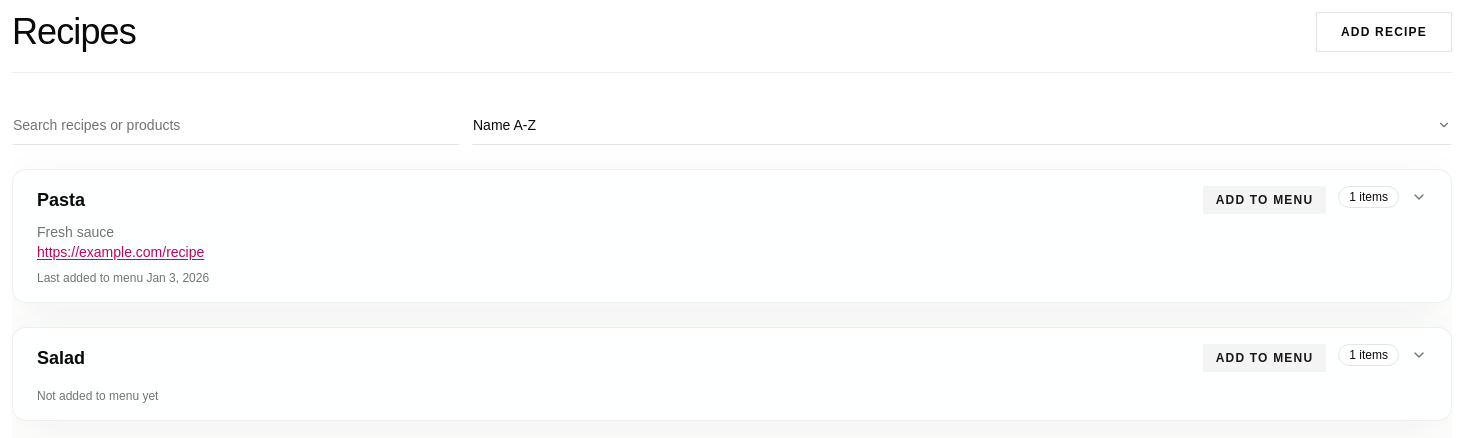
it: RecipesPage › filters recipes by product name
Expected: the text "Pasta" is shown, top-left (37, 190), bottom-right (85, 210)
Type "toma" into the field labelled "Search recipes" at (236, 125), box top-left (12, 105), bottom-right (460, 145)
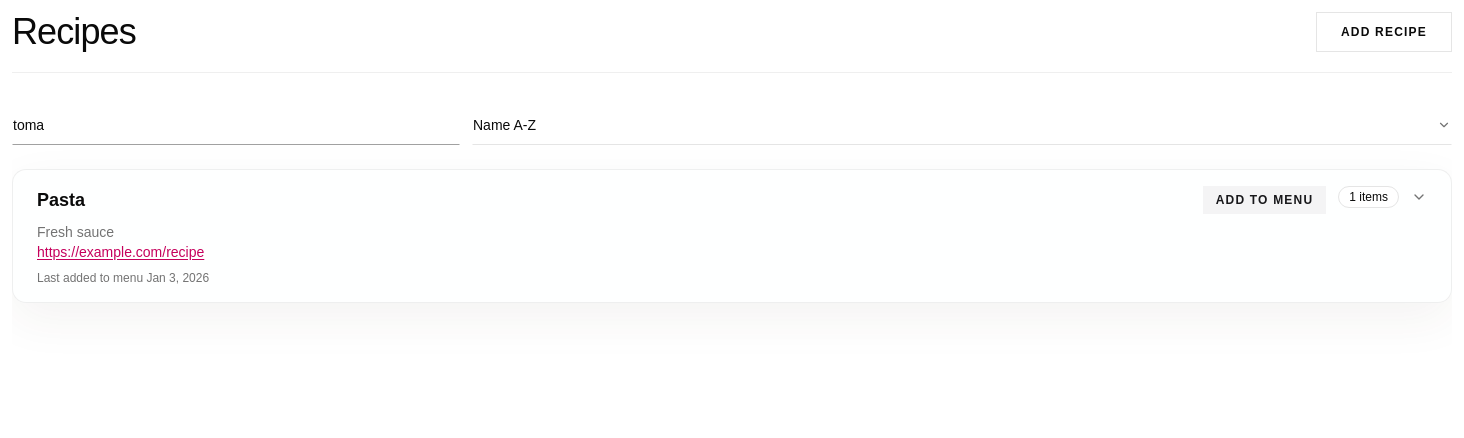
Expected: the text "Pasta" is shown, top-left (37, 190), bottom-right (85, 210)
Now the button "Salad" is gone
